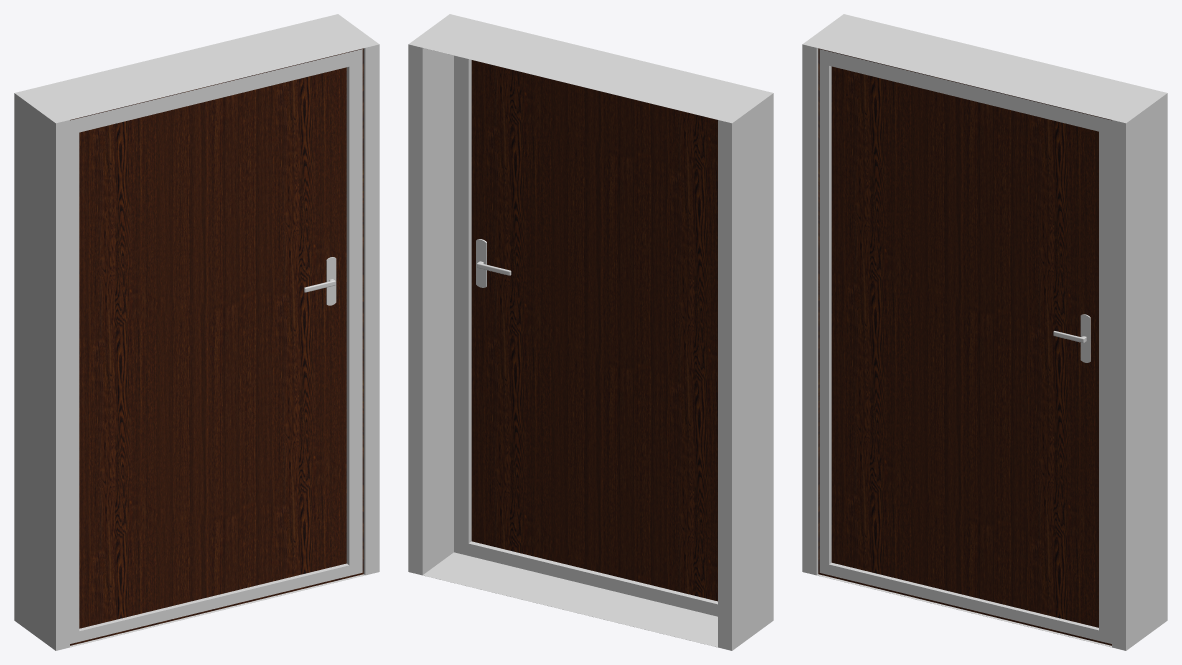
File: Door.fbx
3 views of the same model, side by side, from view 1: azimuth 30°, elevation 25°; view 2: azimuth 150°, elevation 25°; view 3: azimuth 330°, elevation 25° (orthographic).
Parts seen in each view (by area): view 1: Cube.075, Cube.081, Cube.080; view 2: Cube.075, Cube.081, Cube.080; view 3: Cube.075, Cube.081, Cube.080.
Boxes of the visible parts, x1,y1,x2,y2 form: Cube.075: [70, 48, 363, 645]; Cube.081: [14, 14, 379, 650]; Cube.080: [70, 49, 362, 643]; Cube.075: [471, 60, 717, 601]; Cube.081: [408, 14, 773, 650]; Cube.080: [454, 55, 717, 616]; Cube.075: [818, 48, 1111, 645]; Cube.081: [802, 14, 1167, 650]; Cube.080: [819, 49, 1111, 643].
Size of the model in its own units: 140 by 218 by 31.02.
